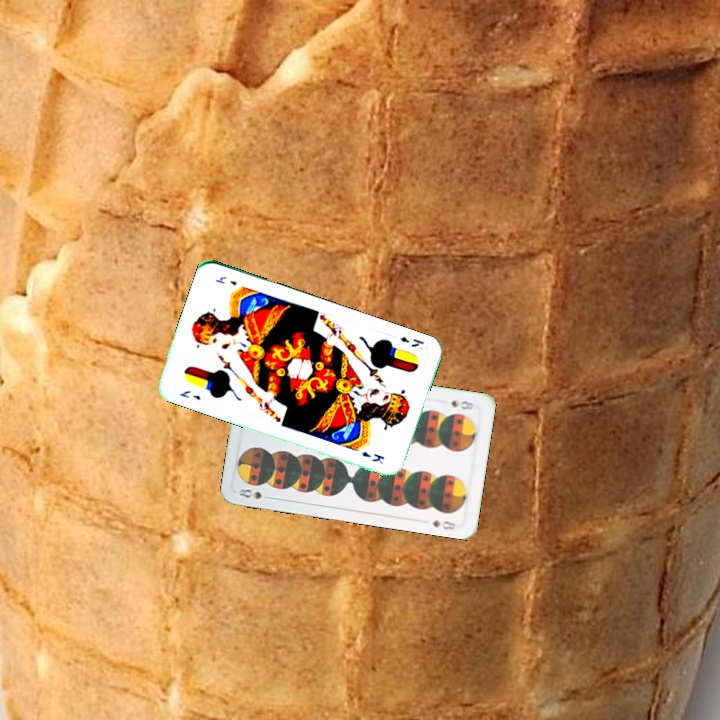EK: (396, 332, 427, 349), (175, 386, 203, 403)
S8: (235, 485, 275, 502), (447, 396, 477, 412)
